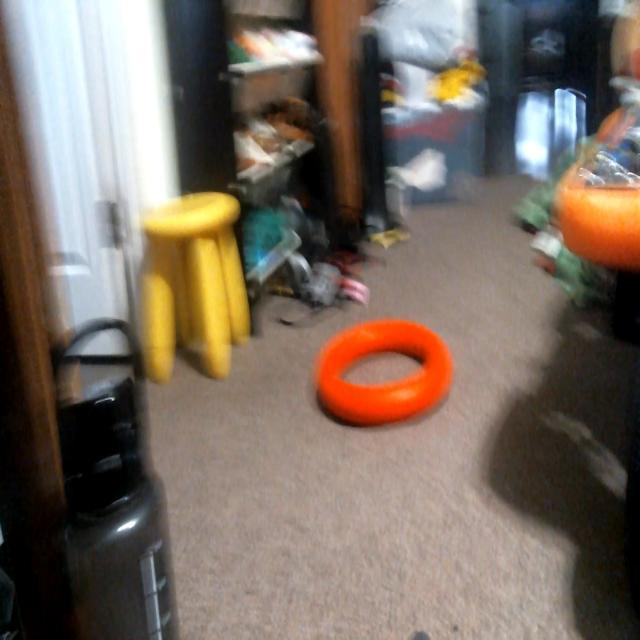note: (312, 311, 456, 427)
